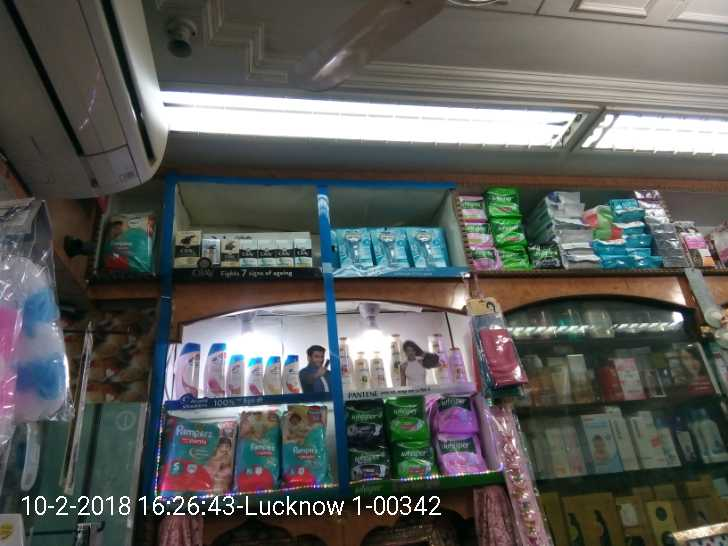venus: (372, 228, 412, 266), (412, 226, 445, 265), (339, 228, 372, 266)
